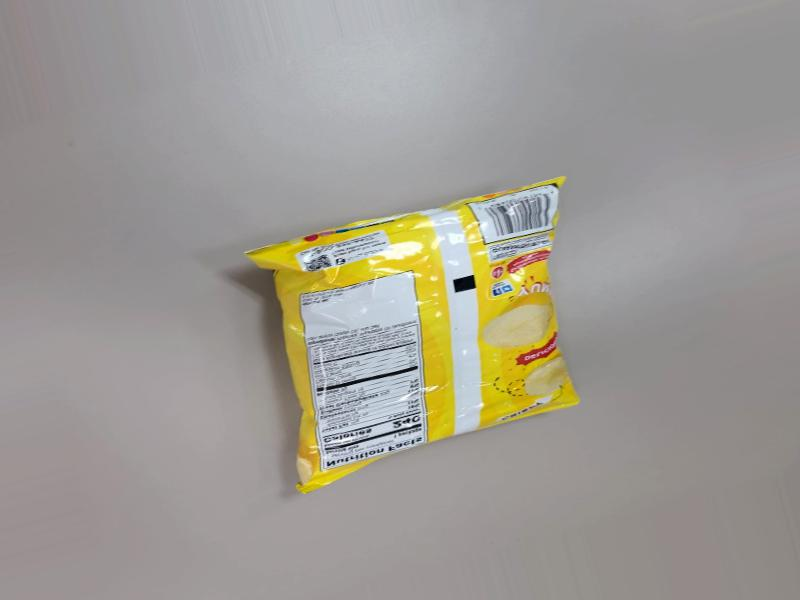lays: (254, 183, 581, 512)
